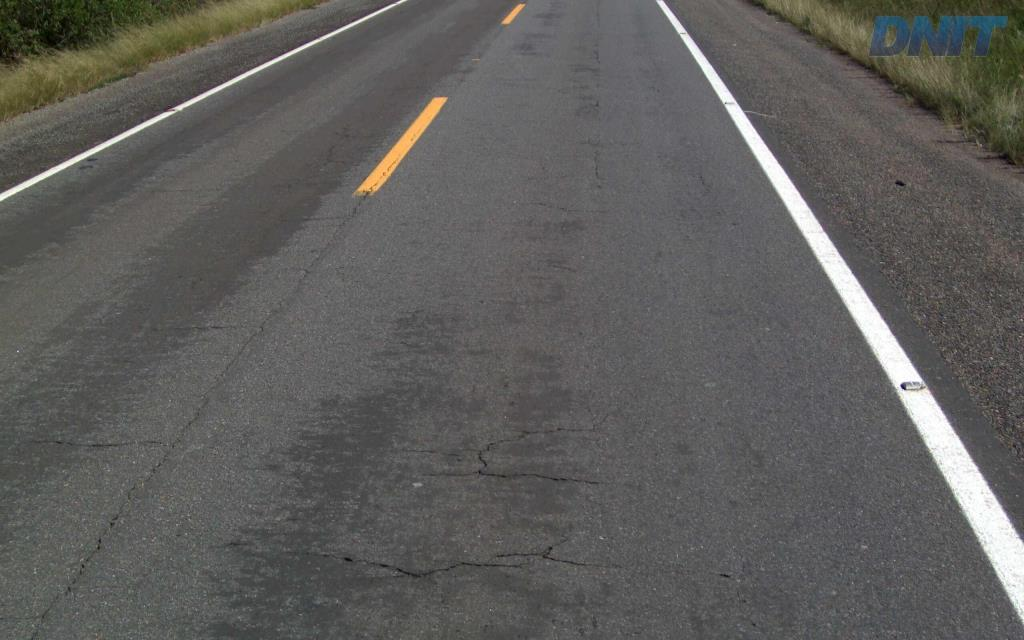crack: (363, 559, 522, 582)
